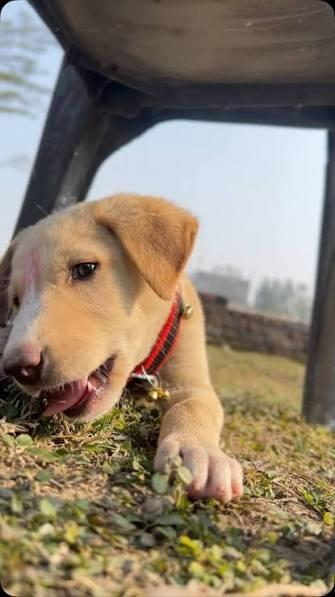puppy-dog: (0, 191, 245, 504)
